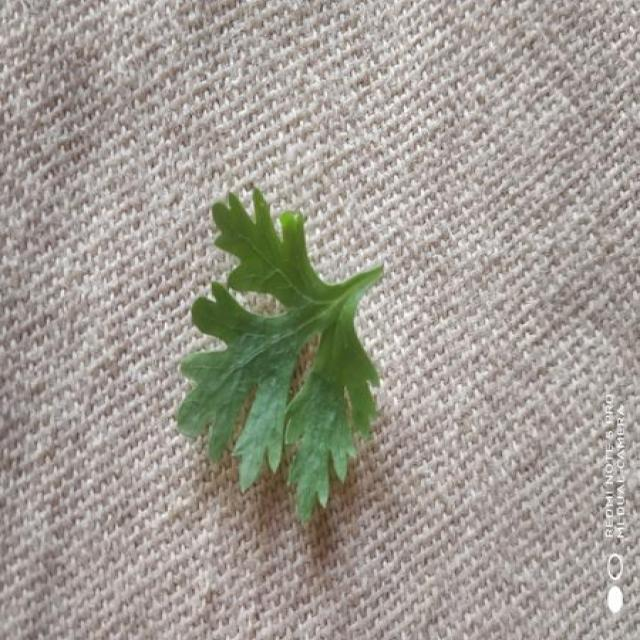coriender: (177, 190, 382, 521)
